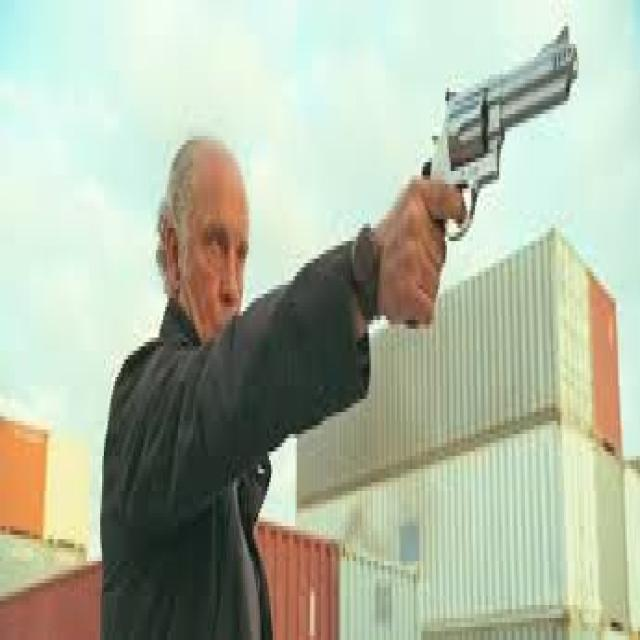gun: (399, 11, 580, 363)
